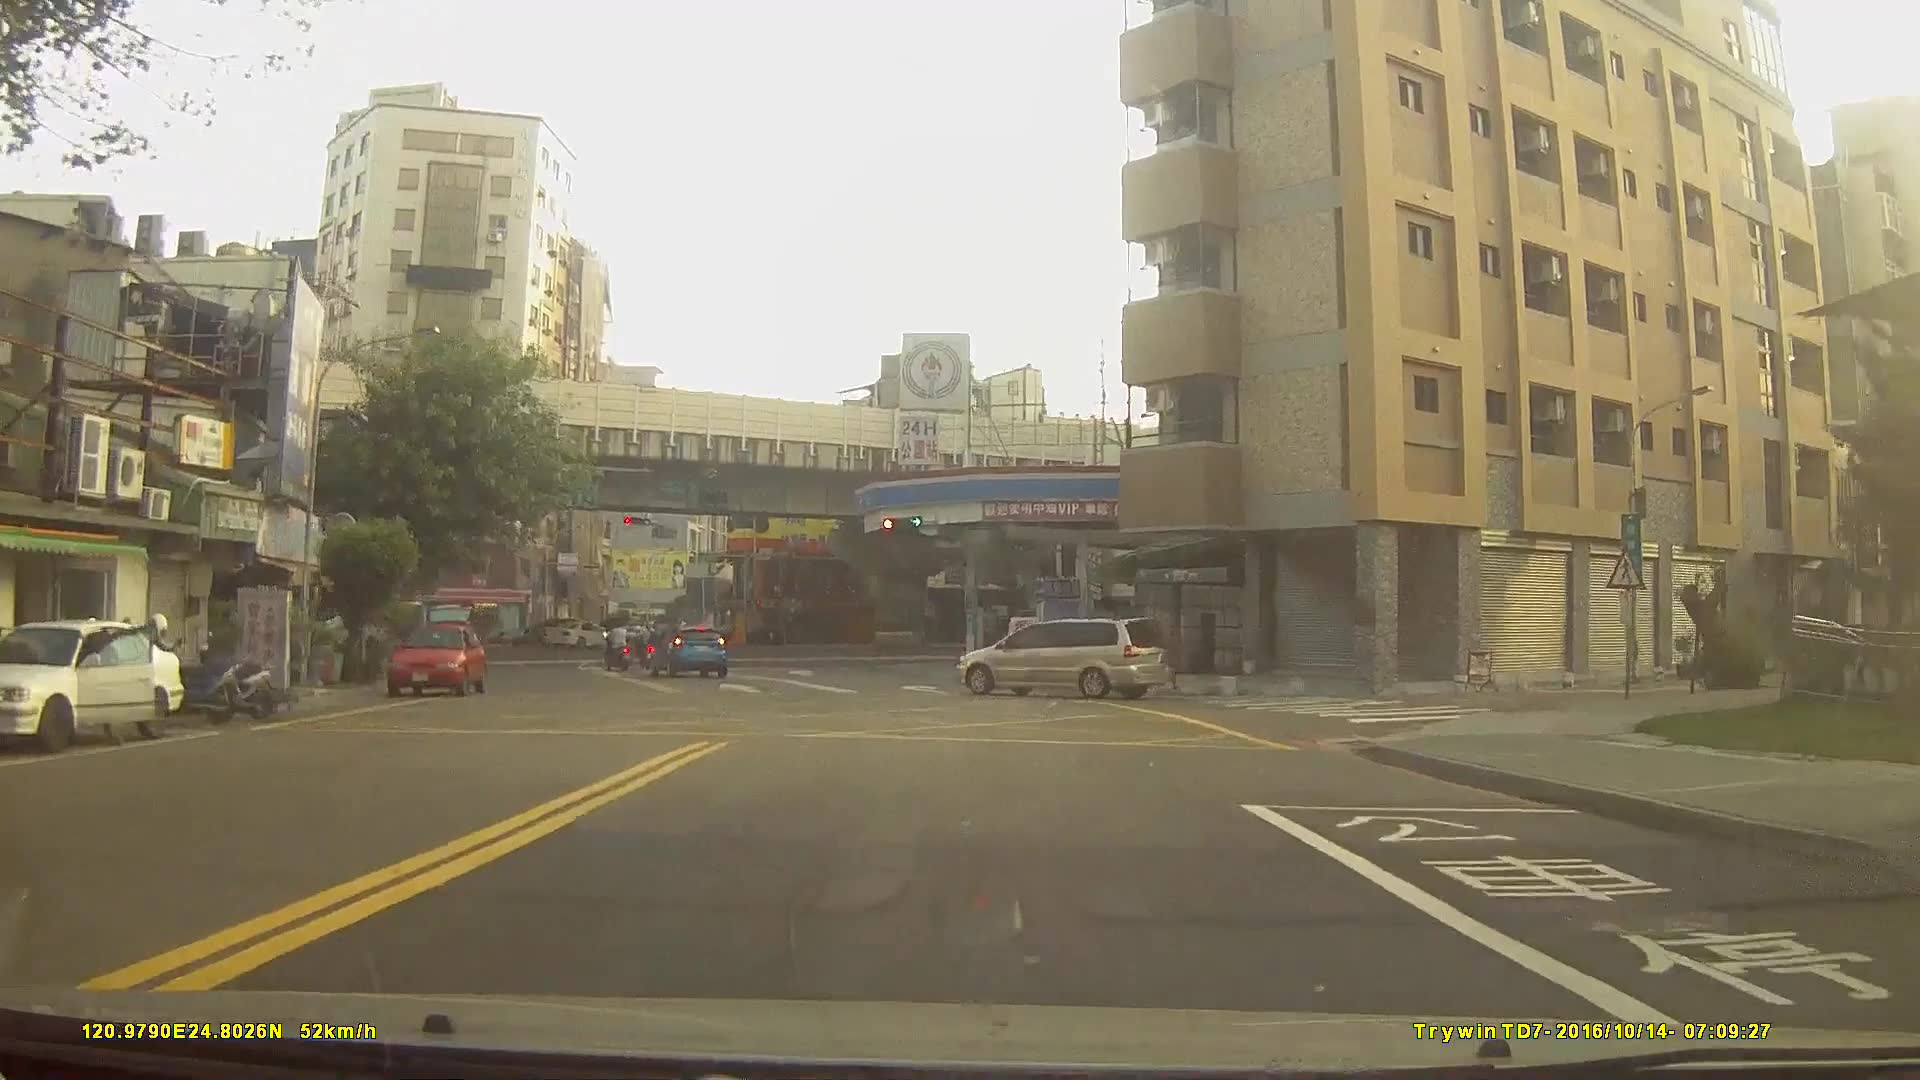rider: (603, 619, 633, 671)
vehicle: (0, 618, 183, 750), (952, 617, 1166, 699), (384, 622, 487, 696), (645, 625, 728, 678), (502, 613, 577, 645), (542, 619, 613, 646)
